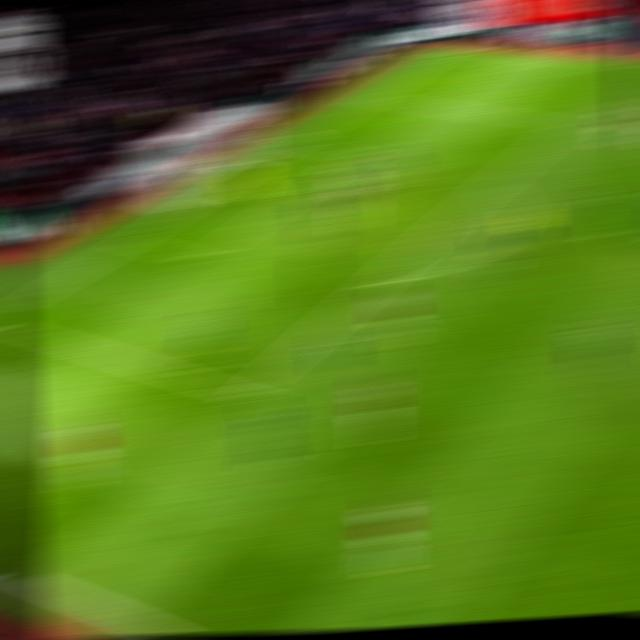bigarea_bottom_inner: (225, 381, 264, 406)
bigarea_top_inner: (551, 112, 587, 132)
bigarea_top_outter: (355, 89, 390, 103)
bottom_arc_area_intersection: (359, 271, 398, 291)
corner: (433, 43, 472, 56)
smallarea_bottom_inner: (182, 244, 222, 270)
smallarea_bottom_outter: (113, 230, 151, 248)
smallarea_top_inner: (340, 145, 377, 161)
smallarea_top_outter: (279, 134, 318, 150)
top_arc_area_intersection: (475, 176, 513, 193)
